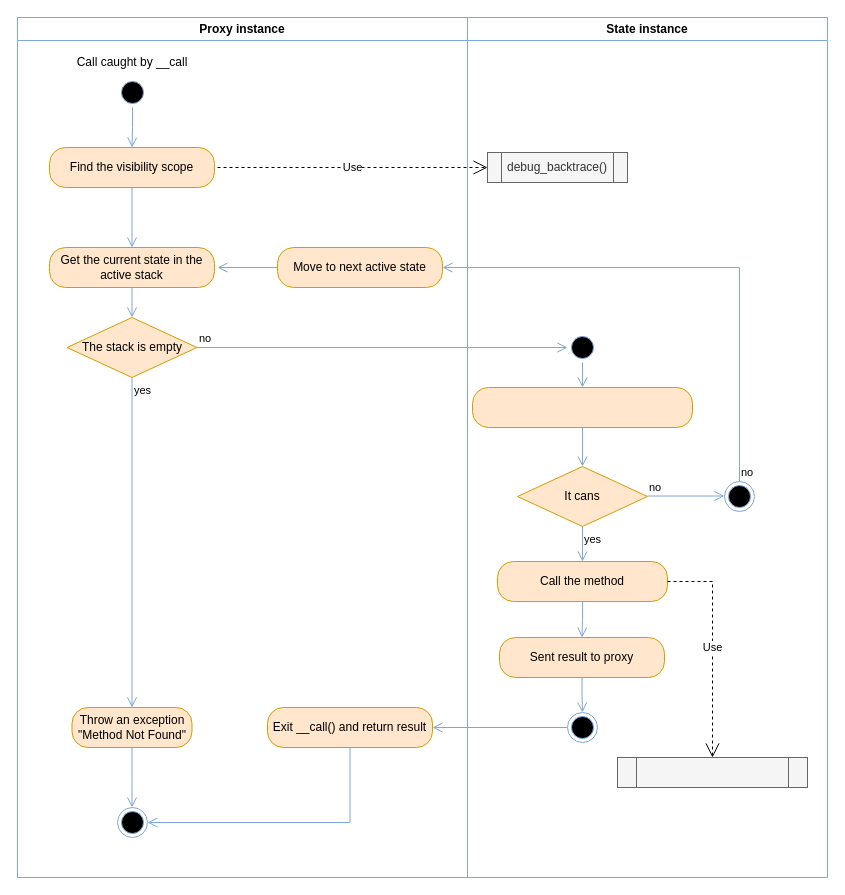
This 845x895 diagram has some shape labels left out. Each missing label, with the centre of its shape:
Ask if the state can execute the method, And pass a callback for the result: pixel 582 407
Closure::call() or bindTo(): pixel 712 772
